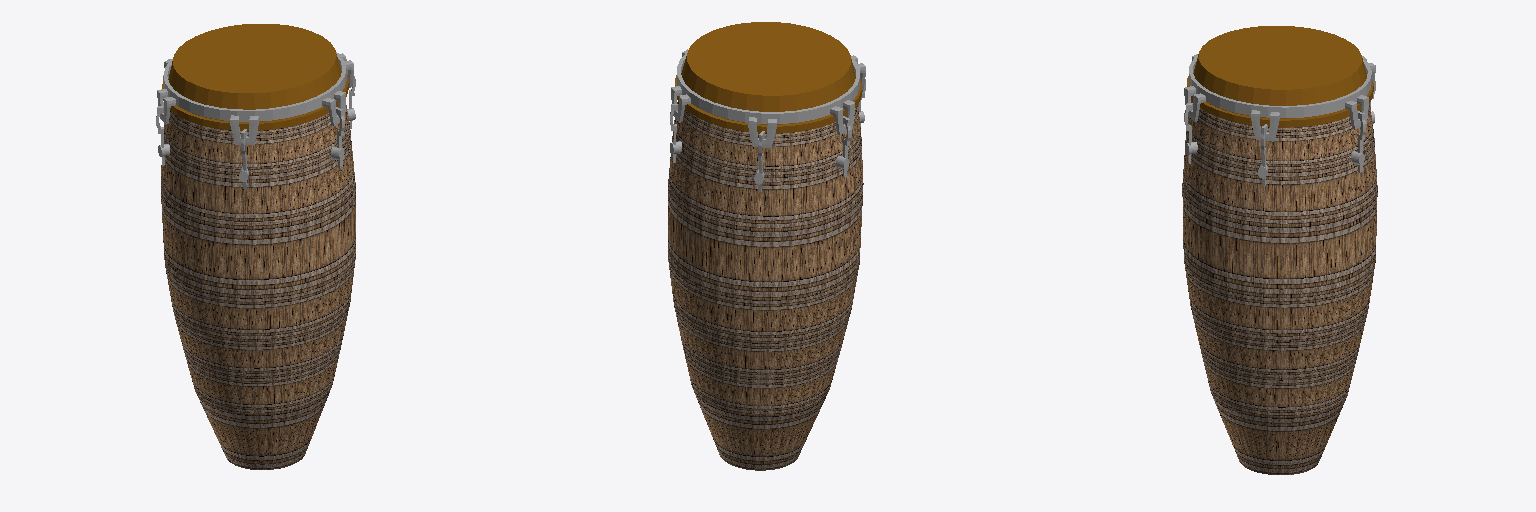
3 renders of one model, left to right at view 1: azimuth 30°, elevation 25°; view 2: azimuth 150°, elevation 25°; view 3: azimuth 270°, elevation 25°, orthographic.
Parts seen in each view (by area): view 1: Circle_007_Circle_008_Circle_007_Circle_008, Circle_004_smothsidesk_Circle_004_smothsidesk, Circle_003_Circle_007_Circle_003_Circle_007, Cylinder_011_Cylinder_011.001, Cylinder_009_Cylinder_009, Cylinder_013_Cylinder_013.001; view 2: Circle_007_Circle_008_Circle_007_Circle_008, Circle_004_smothsidesk_Circle_004_smothsidesk, Circle_003_Circle_007_Circle_003_Circle_007, Cylinder_013_Cylinder_013.001, Cylinder_008_Cylinder_008.001, Cylinder_010_Cylinder_010.001; view 3: Circle_007_Circle_008_Circle_007_Circle_008, Circle_004_smothsidesk_Circle_004_smothsidesk, Circle_003_Circle_007_Circle_003_Circle_007, Cylinder_012_Cylinder_012.001, Cylinder_010_Cylinder_010.001, Cylinder_009_Cylinder_009.
Boxes of the visible parts, <box> form: Circle_007_Circle_008_Circle_007_Circle_008: <box>161,105,355,469</box>; Circle_004_smothsidesk_Circle_004_smothsidesk: <box>162,24,348,130</box>; Circle_003_Circle_007_Circle_003_Circle_007: <box>163,52,346,121</box>; Cylinder_011_Cylinder_011.001: <box>230,115,258,189</box>; Cylinder_009_Cylinder_009: <box>322,91,345,167</box>; Cylinder_013_Cylinder_013.001: <box>156,89,175,165</box>; Circle_007_Circle_008_Circle_007_Circle_008: <box>668,102,863,470</box>; Circle_004_smothsidesk_Circle_004_smothsidesk: <box>675,22,861,133</box>; Circle_003_Circle_007_Circle_003_Circle_007: <box>677,52,859,123</box>; Cylinder_013_Cylinder_013.001: <box>830,100,854,176</box>; Cylinder_008_Cylinder_008.001: <box>748,117,776,191</box>; Cylinder_010_Cylinder_010.001: <box>670,86,690,162</box>; Circle_007_Circle_008_Circle_007_Circle_008: <box>1182,101,1377,474</box>; Circle_004_smothsidesk_Circle_004_smothsidesk: <box>1187,26,1373,127</box>; Circle_003_Circle_007_Circle_003_Circle_007: <box>1189,55,1371,117</box>; Cylinder_012_Cylinder_012.001: <box>1251,110,1279,186</box>; Cylinder_010_Cylinder_010.001: <box>1345,95,1368,172</box>; Cylinder_009_Cylinder_009: <box>1184,86,1205,163</box>.
Bounding box in the file's own units: 0.8187 × 1.71 × 0.7554.
Materials: 4 (1 with a texture image).